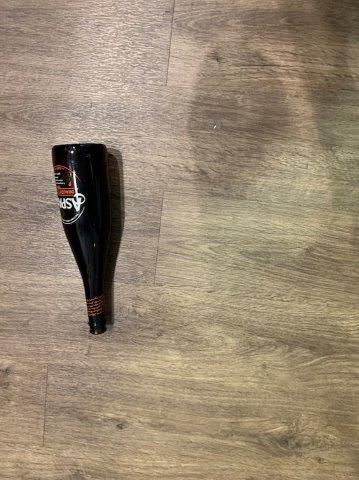botolkaca: (52, 144, 110, 335)
